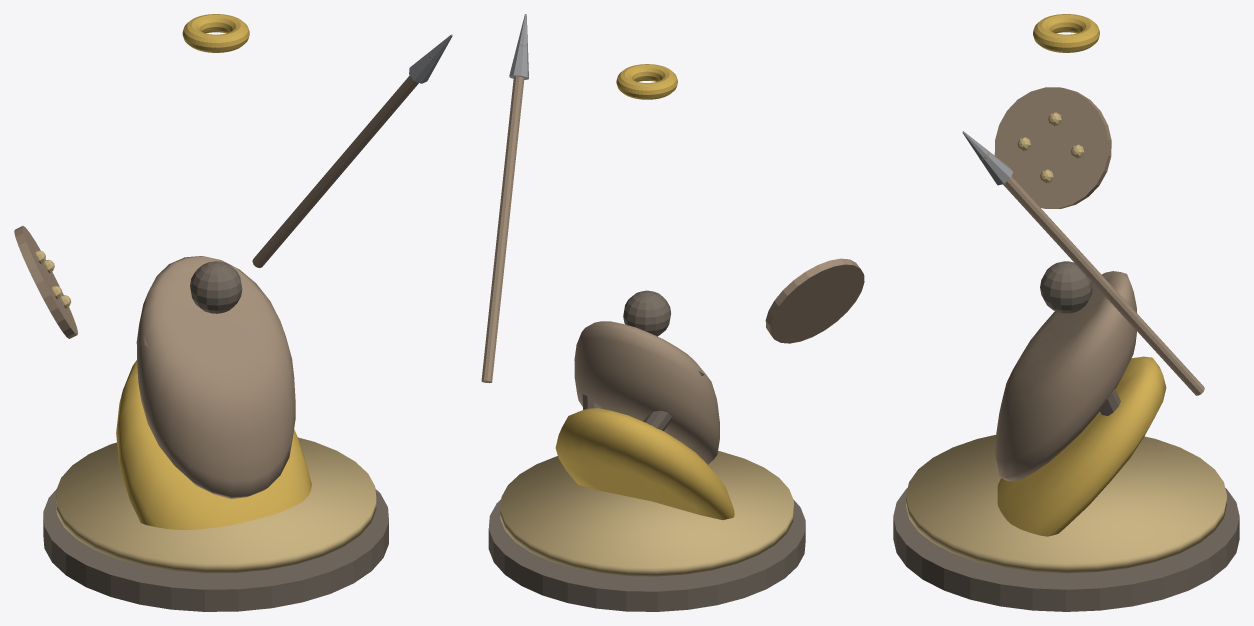
The picture shows the model from 3 angles, left to right: view 1: azimuth 30°, elevation 25°; view 2: azimuth 150°, elevation 25°; view 3: azimuth 270°, elevation 25°; orthographic projection. The views are drawn at different scales.
Parts seen in each view (by area): view 1: Pawn_Torso, Plinth_GoldRim, Plinth_Stone, Pawn_Dhoti, Pawn_SpearShaft, Pawn_Head, Pawn_Turban, Pawn_DhalShield, Pawn_SpearTip; view 2: Plinth_GoldRim, Plinth_Stone, Pawn_Torso, Pawn_Dhoti, Pawn_DhalShield, Pawn_SpearShaft, Pawn_Turban, Pawn_Head, Pawn_SpearTip; view 3: Plinth_GoldRim, Pawn_Torso, Plinth_Stone, Pawn_Dhoti, Pawn_DhalShield, Pawn_SpearShaft, Pawn_Head, Pawn_Turban, Pawn_SpearTip.
Part boxes in pixels (box(x1,y1,x2,y2)): Pawn_Torso: box(136, 256, 295, 498); Plinth_GoldRim: box(56, 437, 376, 573); Plinth_Stone: box(43, 489, 388, 611); Pawn_Dhoti: box(116, 360, 311, 530); Pawn_SpearShaft: box(252, 52, 439, 267); Pawn_Head: box(190, 261, 242, 313); Pawn_Turban: box(182, 14, 249, 52); Pawn_DhalShield: box(14, 226, 77, 338); Pawn_SpearTip: box(409, 34, 452, 83); Plinth_GoldRim: box(500, 451, 793, 576); Plinth_Stone: box(488, 499, 805, 611); Pawn_Torso: box(574, 321, 719, 464); Pawn_Dhoti: box(555, 408, 734, 519); Pawn_DhalShield: box(765, 258, 864, 343); Pawn_SpearShaft: box(481, 44, 527, 383); Pawn_Turban: box(616, 64, 677, 99); Pawn_Head: box(623, 290, 671, 336); Pawn_SpearTip: box(509, 14, 528, 79); Plinth_GoldRim: box(906, 435, 1226, 573); Pawn_Torso: box(995, 271, 1137, 481); Plinth_Stone: box(893, 488, 1239, 611); Pawn_Dhoti: box(997, 356, 1166, 536); Pawn_DhalShield: box(994, 87, 1111, 208); Pawn_SpearShaft: box(979, 150, 1204, 395); Pawn_Head: box(1040, 261, 1092, 313); Pawn_Turban: box(1033, 14, 1099, 52); Pawn_SpearTip: box(962, 131, 1012, 185).
Bounding box in the file's own units: 0.8947 × 1.19 × 0.68.
